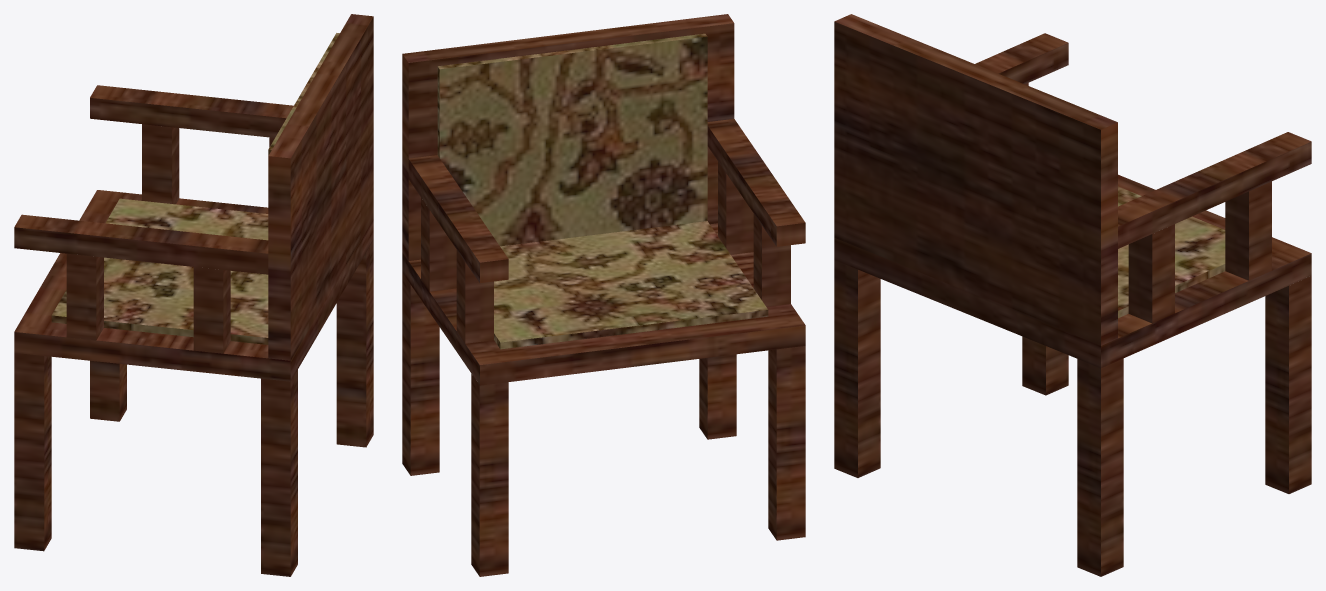
Rendered from chair.obj.
The picture shows the model from 3 angles, left to right: view 1: azimuth 30°, elevation 25°; view 2: azimuth 150°, elevation 25°; view 3: azimuth 270°, elevation 25°; orthographic projection. The views are drawn at different scales.
Parts seen in each view (by area): view 1: entity0_brush0, entity0_brush10, entity0_brush9, entity0_brush7, entity0_brush12, entity0_brush11, entity0_brush8, entity0_brush5, entity0_brush6, entity0_brush13, entity0_brush4, entity0_brush3 (+1 smaller); view 2: entity0_brush1, entity0_brush10, entity0_brush9, entity0_brush0, entity0_brush3, entity0_brush12, entity0_brush5, entity0_brush8, entity0_brush7, entity0_brush11, entity0_brush4, entity0_brush13 (+2 smaller); view 3: entity0_brush0, entity0_brush9, entity0_brush5, entity0_brush11, entity0_brush3, entity0_brush8, entity0_brush10, entity0_brush4, entity0_brush2, entity0_brush7, entity0_brush12.
Part boxes in pixels (x1=…): entity0_brush0: x1=268, y1=14, x2=373, y2=360; entity0_brush10: x1=51, y1=198, x2=268, y2=344; entity0_brush9: x1=14, y1=190, x2=373, y2=381; entity0_brush7: x1=14, y1=214, x2=268, y2=274; entity0_brush12: x1=14, y1=353, x2=51, y2=551; entity0_brush11: x1=261, y1=370, x2=297, y2=576; entity0_brush8: x1=90, y1=85, x2=293, y2=137; entity0_brush5: x1=336, y1=240, x2=373, y2=447; entity0_brush6: x1=193, y1=267, x2=230, y2=353; entity0_brush13: x1=66, y1=253, x2=103, y2=340; entity0_brush4: x1=142, y1=124, x2=179, y2=204; entity0_brush3: x1=90, y1=360, x2=126, y2=421; entity0_brush1: x1=437, y1=33, x2=707, y2=246; entity0_brush10: x1=494, y1=221, x2=768, y2=349; entity0_brush9: x1=402, y1=223, x2=805, y2=385; entity0_brush0: x1=402, y1=14, x2=734, y2=260; entity0_brush3: x1=471, y1=374, x2=508, y2=576; entity0_brush12: x1=768, y1=346, x2=805, y2=540; entity0_brush5: x1=402, y1=273, x2=439, y2=475; entity0_brush8: x1=408, y1=155, x2=508, y2=282; entity0_brush7: x1=707, y1=119, x2=805, y2=246; entity0_brush11: x1=699, y1=354, x2=736, y2=439; entity0_brush4: x1=456, y1=250, x2=493, y2=343; entity0_brush13: x1=753, y1=213, x2=790, y2=306; entity0_brush0: x1=834, y1=14, x2=1117, y2=345; entity0_brush9: x1=834, y1=174, x2=1311, y2=367; entity0_brush5: x1=1077, y1=358, x2=1123, y2=576; entity0_brush11: x1=834, y1=260, x2=880, y2=477; entity0_brush3: x1=1265, y1=276, x2=1311, y2=493; entity0_brush8: x1=1118, y1=132, x2=1311, y2=248; entity0_brush10: x1=1118, y1=186, x2=1225, y2=318; entity0_brush4: x1=1225, y1=181, x2=1271, y2=280; entity0_brush2: x1=1128, y1=224, x2=1174, y2=323; entity0_brush7: x1=975, y1=33, x2=1068, y2=84; entity0_brush12: x1=1022, y1=336, x2=1068, y2=395.
Size of the model in its own units: 57.86 by 60 by 58.09.
